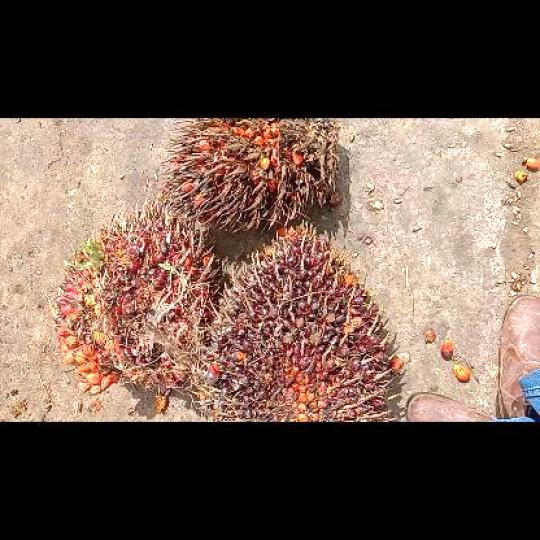kurang masak: (199, 226, 398, 420)
masak: (52, 206, 215, 394)
terlalu masak: (164, 118, 338, 227)
